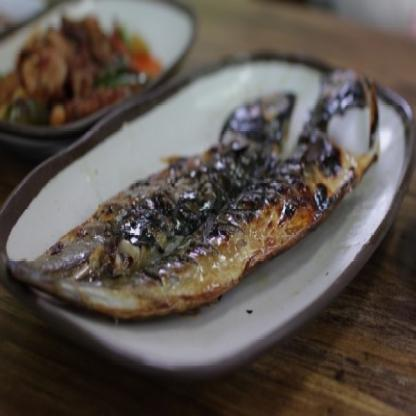Peixe: (0, 58, 381, 364)
